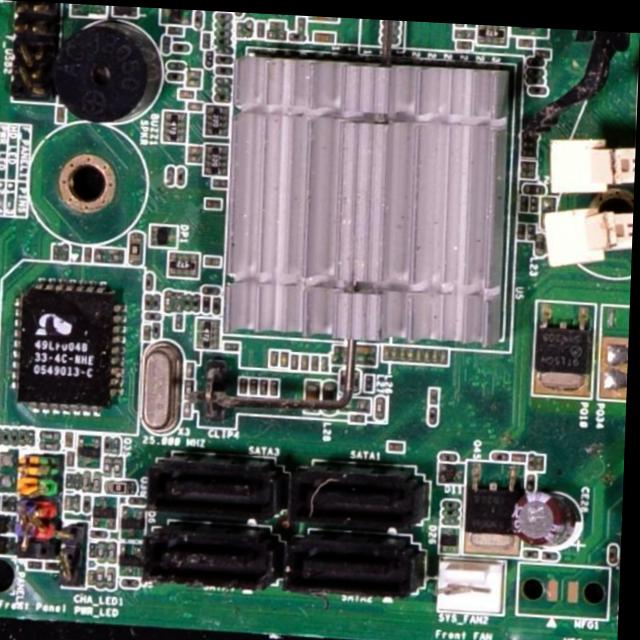IC: (11, 273, 130, 418)
capacitor: (512, 484, 578, 544), (307, 377, 323, 413), (306, 13, 340, 20), (206, 196, 224, 209), (314, 30, 336, 40), (75, 493, 86, 512), (282, 347, 293, 366), (360, 342, 380, 352), (390, 438, 409, 448), (206, 254, 225, 264), (187, 100, 204, 111), (67, 493, 77, 511), (185, 397, 195, 415), (178, 88, 196, 98), (272, 378, 283, 394), (215, 73, 234, 82), (215, 43, 234, 52), (303, 350, 313, 367), (515, 446, 530, 457), (252, 376, 261, 394), (186, 152, 204, 161), (385, 341, 395, 357), (240, 376, 249, 393), (409, 342, 418, 359), (432, 385, 441, 401), (188, 144, 204, 153), (263, 377, 271, 394), (91, 567, 99, 584), (417, 343, 426, 358), (216, 83, 231, 92), (186, 68, 201, 77), (392, 342, 401, 356), (187, 78, 204, 85), (441, 347, 450, 360), (401, 342, 407, 360), (425, 344, 432, 359), (188, 362, 196, 375), (434, 345, 440, 359)
connector: (540, 177, 635, 275), (552, 119, 637, 191)
resistor: (111, 476, 142, 496), (130, 231, 147, 264), (376, 393, 389, 417), (42, 428, 65, 441), (96, 471, 108, 494), (111, 564, 122, 589), (111, 537, 121, 564), (106, 456, 118, 477), (100, 564, 110, 589), (85, 469, 96, 491), (44, 441, 64, 453), (186, 377, 198, 397), (213, 90, 233, 101), (494, 445, 513, 456), (430, 403, 441, 422), (117, 457, 127, 477), (166, 291, 175, 313), (101, 542, 110, 564), (167, 60, 183, 70), (215, 63, 232, 72), (206, 48, 213, 67), (217, 53, 234, 60), (0, 496, 6, 511)
transistor: (535, 293, 598, 391), (467, 453, 525, 552), (80, 429, 106, 469), (122, 504, 150, 538), (98, 493, 122, 529), (124, 543, 148, 578), (160, 7, 192, 25), (153, 224, 179, 246), (0, 534, 20, 556), (0, 513, 20, 532)
